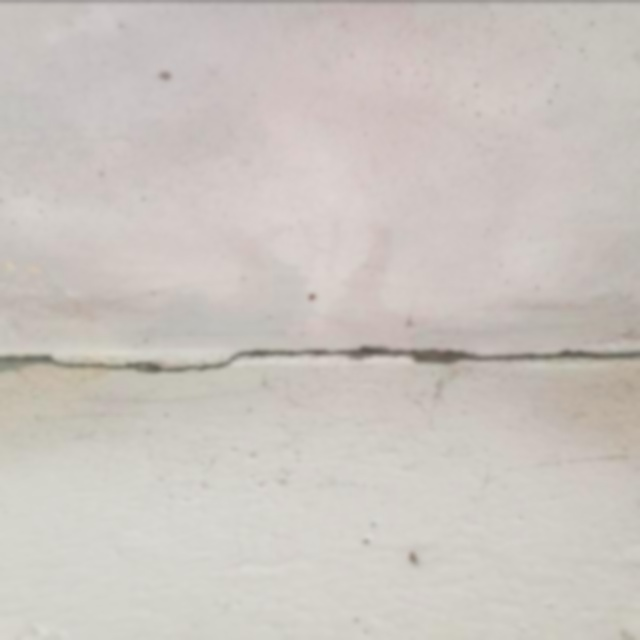SurfaceCrack: (0, 293, 639, 427)
